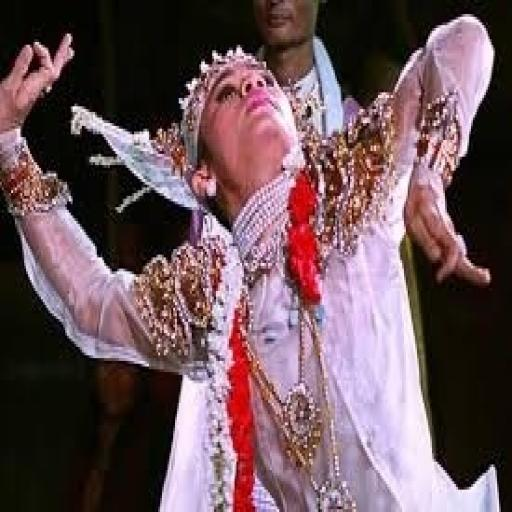dancing: (0, 14, 503, 509)
